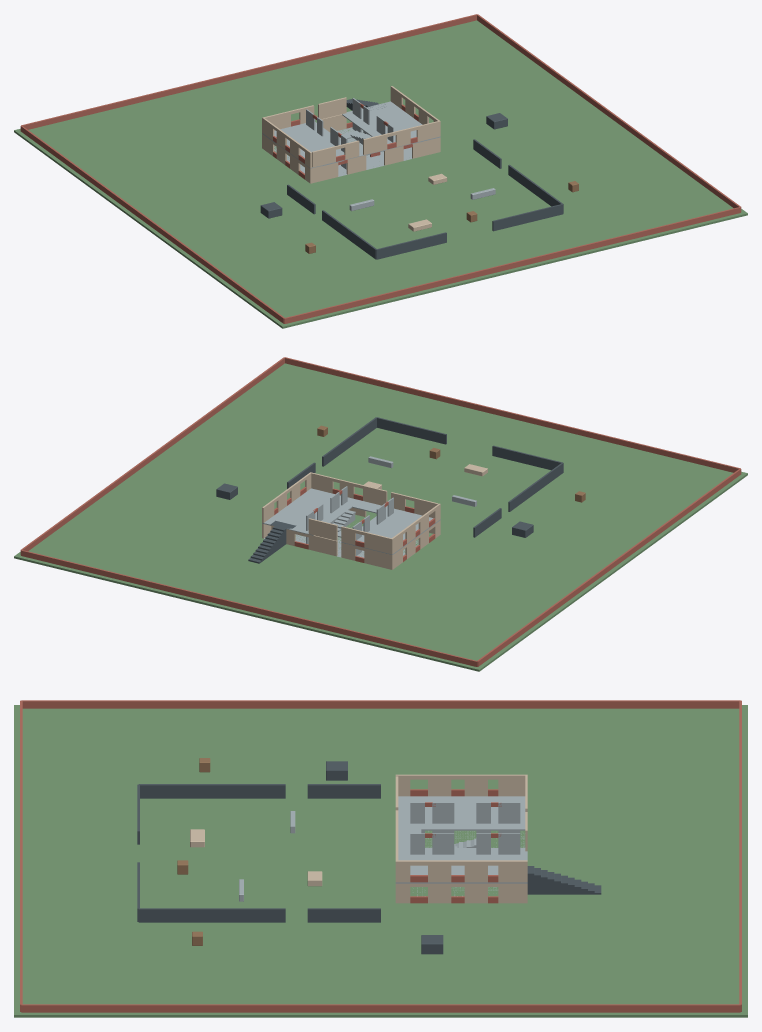
File: courtyard-compound-environment.glb
3 renders of one model, top to bottom at view 1: azimuth 30°, elevation 25°; view 2: azimuth 150°, elevation 25°; view 3: azimuth 270°, elevation 25°, orthographic. The views are drawn at different scales.
Parts seen in each view (by area): view 1: ground, boundary.south, boundary.north, boundary.west, boundary.east, building.upper-floor-east, building.upper-floor-west, fence.south.east, fence.south.west, fence.west.north, building.ground-slab, fence.east.north; view 2: ground, boundary.north, boundary.south, boundary.west, boundary.east, building.upper-floor-east, building.upper-floor-west, fence.south.east, fence.south.west, fence.west.north, fence.east.north; view 3: ground, boundary.east, boundary.west, building.upper-floor-west, fence.east.north, fence.west.north, building.upper-floor-east, fence.west.south, fence.east.south, boundary.south, boundary.north, building.wall.13.825.4.75.-18.0 (+6 smaller).
Boxes of the visible parts, <box> form: ground: <box>14,20,747,328</box>; boundary.south: <box>284,207,740,323</box>; boundary.north: <box>21,14,477,129</box>; boundary.west: <box>20,126,284,323</box>; boundary.east: <box>477,14,741,211</box>; building.upper-floor-east: <box>342,101,440,149</box>; building.upper-floor-west: <box>262,122,361,168</box>; fence.south.east: <box>492,204,563,231</box>; fence.south.west: <box>376,232,446,259</box>; fence.west.north: <box>322,210,376,259</box>; building.ground-slab: <box>274,127,412,176</box>; fence.east.north: <box>508,164,563,213</box>; ground: <box>14,363,747,671</box>; boundary.north: <box>21,550,477,666</box>; boundary.south: <box>284,357,740,472</box>; boundary.west: <box>477,469,741,666</box>; boundary.east: <box>20,357,284,554</box>; building.upper-floor-east: <box>262,488,360,535</box>; building.upper-floor-west: <box>341,508,440,554</box>; fence.south.east: <box>376,417,446,444</box>; fence.south.west: <box>492,445,562,470</box>; fence.west.north: <box>508,463,563,511</box>; fence.east.north: <box>322,417,376,466</box>; ground: <box>14,705,747,1017</box>; boundary.east: <box>21,1004,740,1012</box>; boundary.west: <box>21,700,740,708</box>; building.upper-floor-west: <box>398,796,525,830</box>; fence.east.north: <box>138,908,285,922</box>; fence.west.north: <box>138,784,285,798</box>; building.upper-floor-east: <box>395,848,527,883</box>; fence.west.south: <box>307,784,380,798</box>; fence.east.south: <box>307,908,380,922</box>; boundary.south: <box>20,700,22,1011</box>; boundary.north: <box>739,700,741,1011</box>; building.wall.13.825.4.75.-18.0: <box>498,860,527,882</box>.
Size of the model in its own units: 100 by 6.7 by 100.
